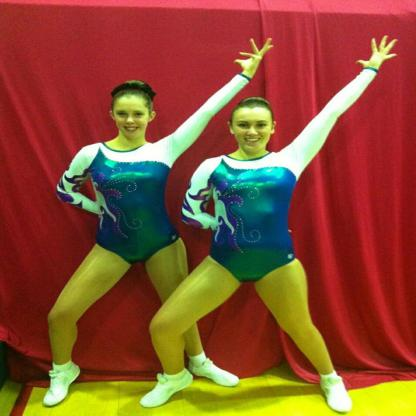face: (232, 110, 273, 154), (113, 95, 151, 140)
